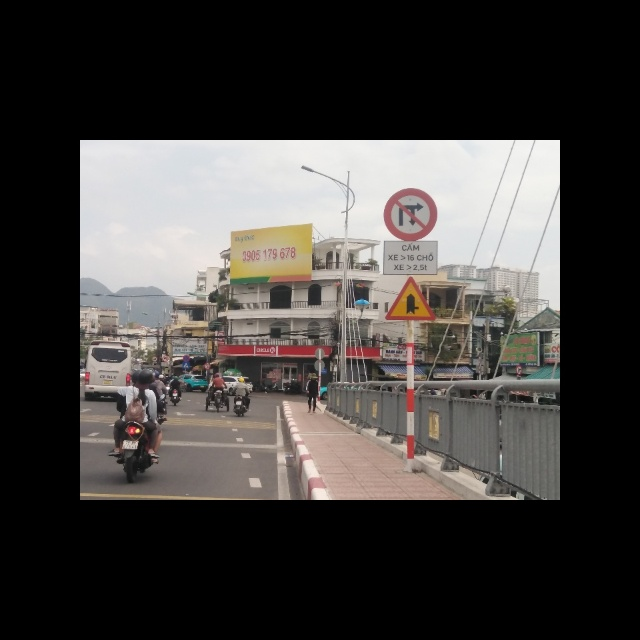Cấm quay đầu và rẽ phải: (382, 189, 439, 242)
Giao nhau với đường không ưu tiên: (382, 276, 437, 321)
